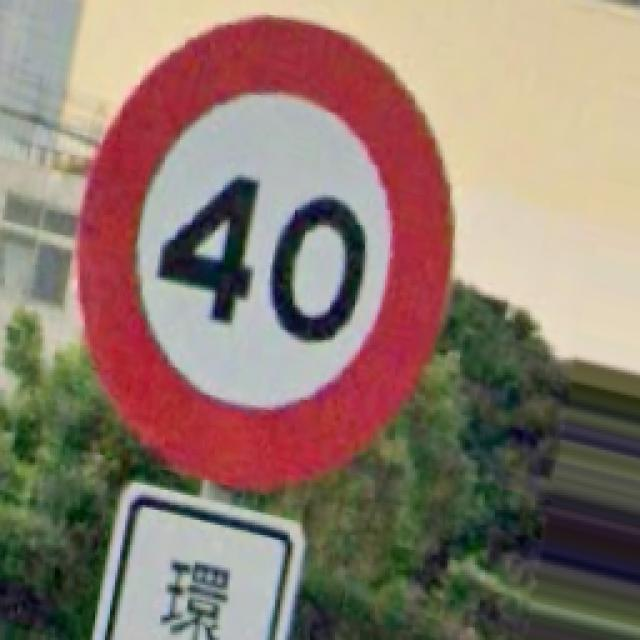Speed Limit -40-: (78, 18, 450, 488)
